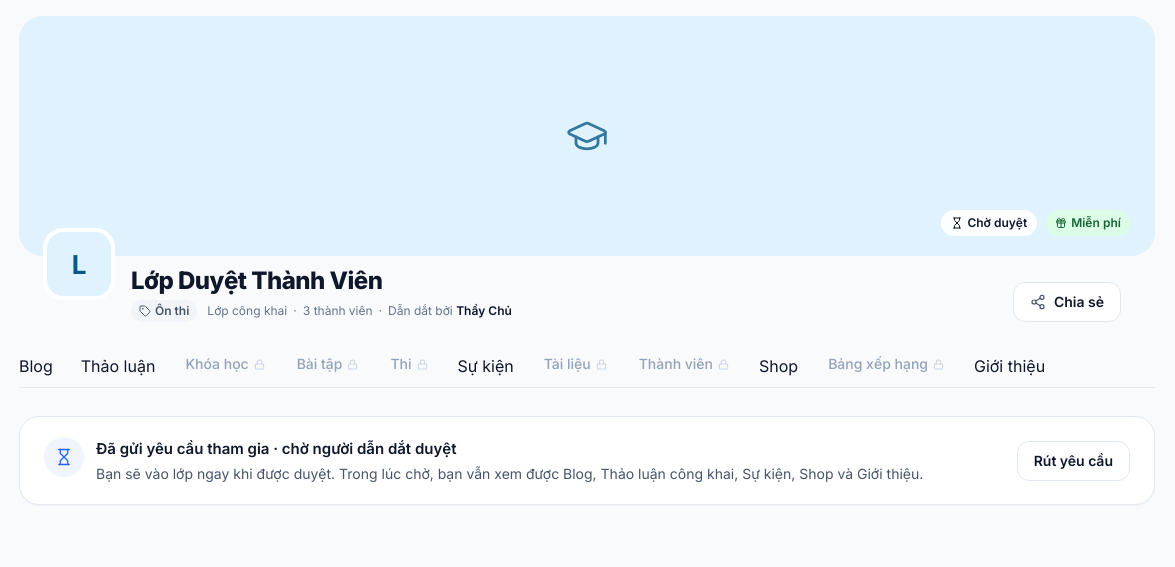
Scenario: ClassroomLayout - join approval › withdraws the request only after confirming, then offers "Xin tham gia" again
This screenshot has width=1175, height=567.
Click the button "Rút yêu cầu".
click(1073, 460)  # box [1017, 440, 1130, 480]
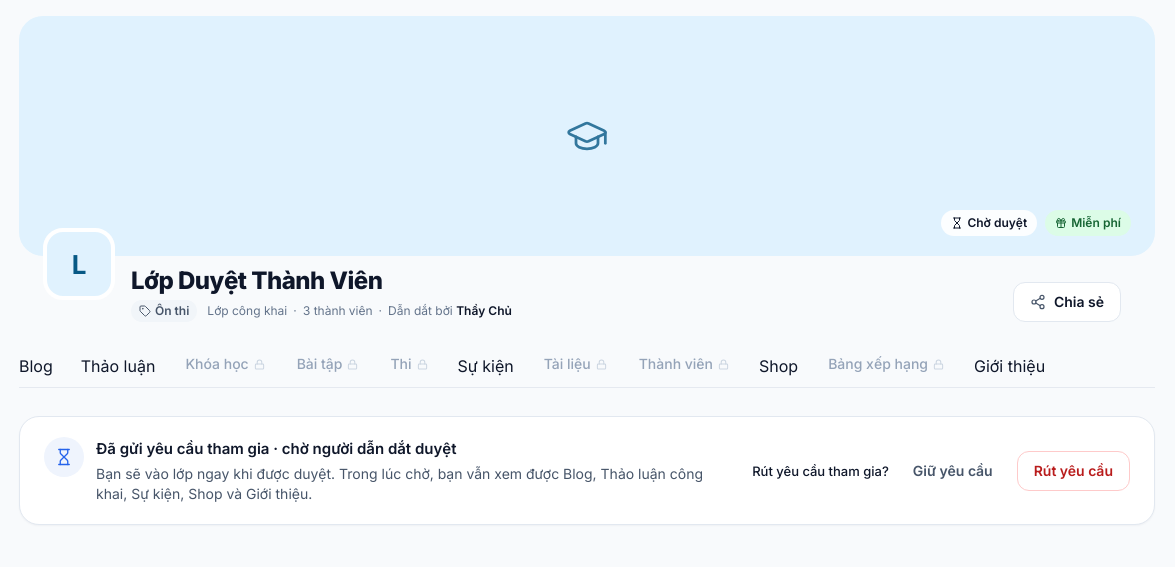
Click the button "Giữ yêu cầu".
click(953, 470)  # box [897, 450, 1009, 490]
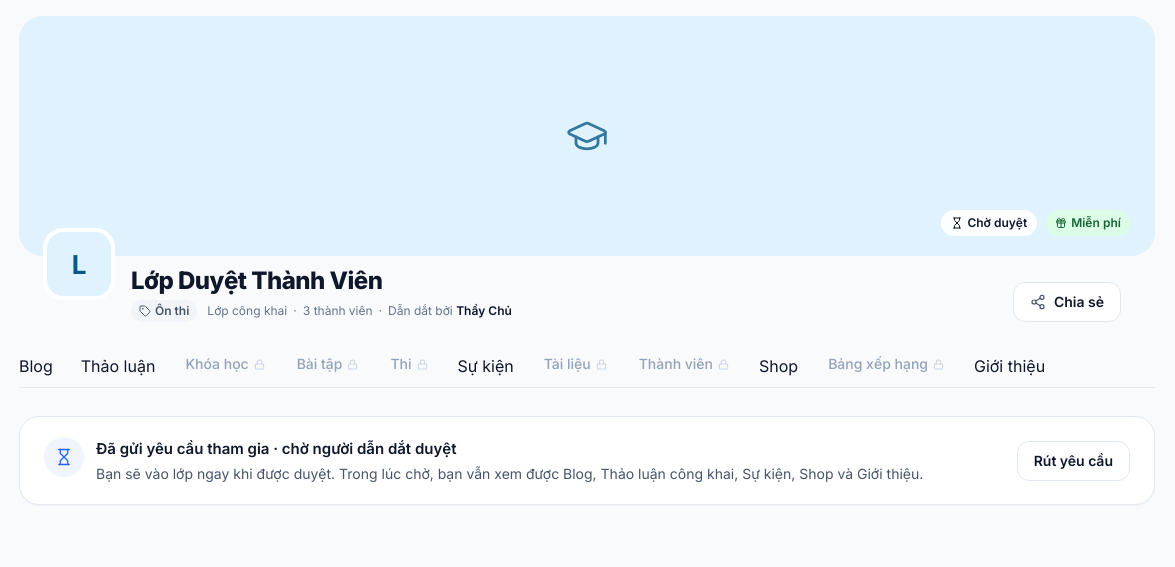
Click the button "Rút yêu cầu".
click(1073, 460)  # box [1017, 440, 1130, 480]
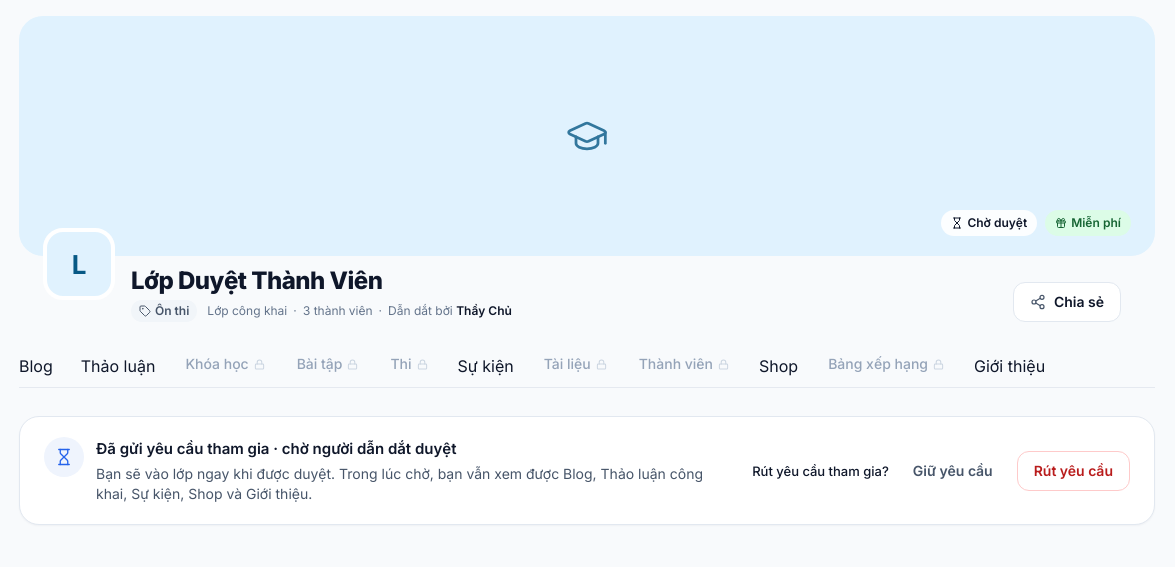
Click the button "Rút yêu cầu".
click(1073, 470)  # box [1017, 450, 1130, 490]
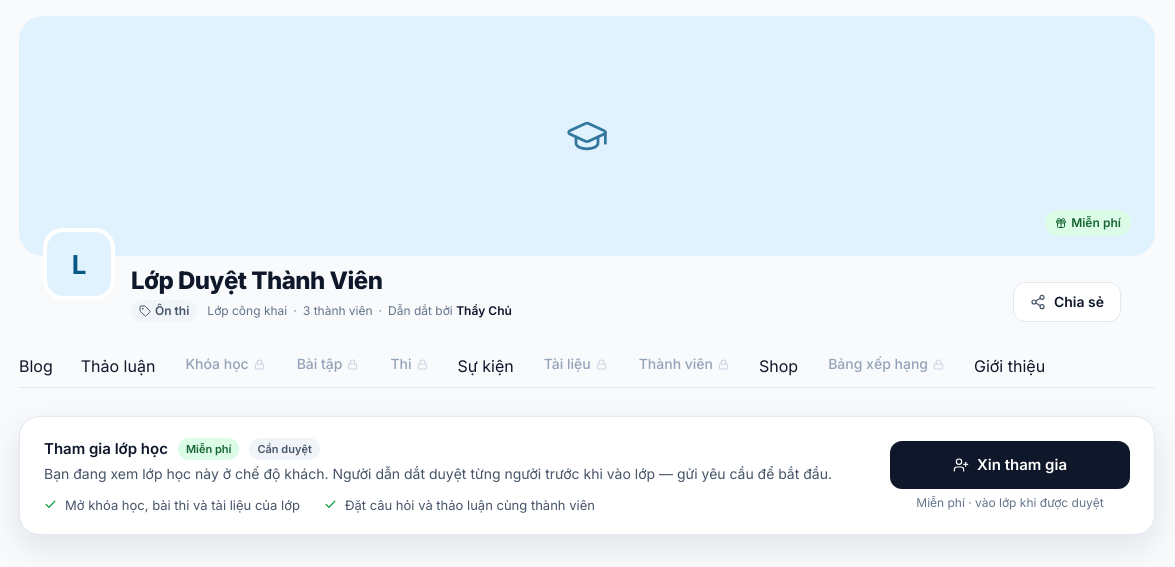
Expected: the message with test id "join-pending" is gone
Expected: the button "Xin tham gia" is shown, [890, 440, 1130, 488]
